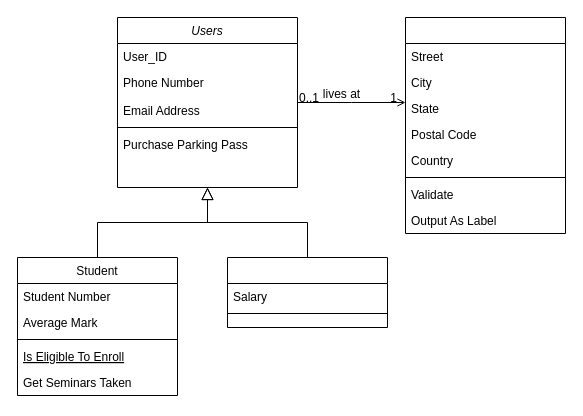
This 583x416 diagram has some shape labels left out. The box of each missing label's shape, as (x1, y1, x2, y2) in pixels:
Address: (404, 16, 566, 234)
Professor: (226, 256, 388, 328)
